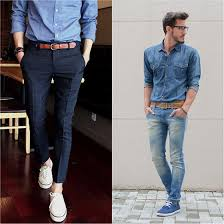F_belt: (26, 38, 87, 53)
F_dress pants: (18, 47, 88, 189)
